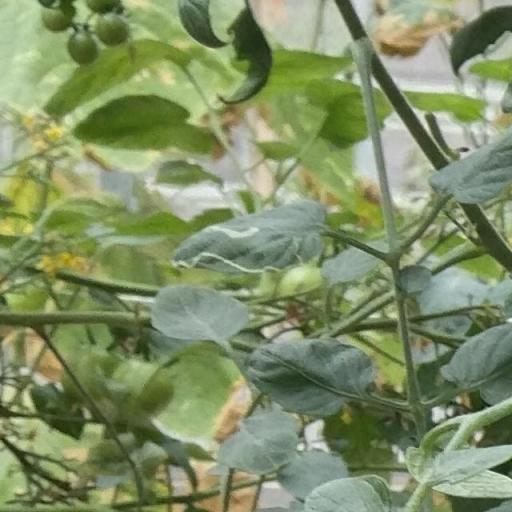Healthy: (238, 336, 374, 418), (150, 280, 255, 344)
Leaf_Miner: (161, 191, 339, 280)
